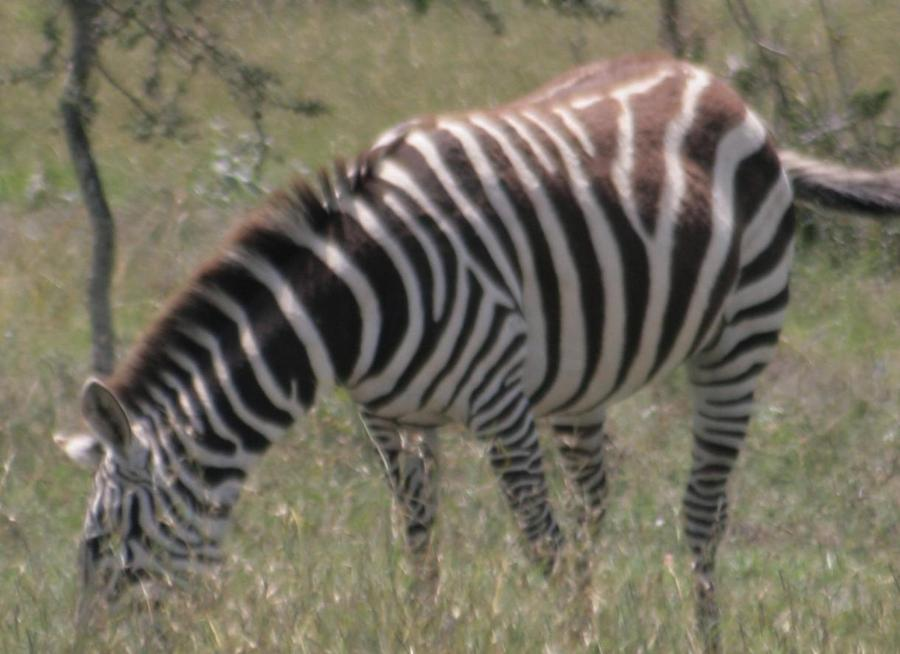zebra_plains: (342, 67, 825, 443)
